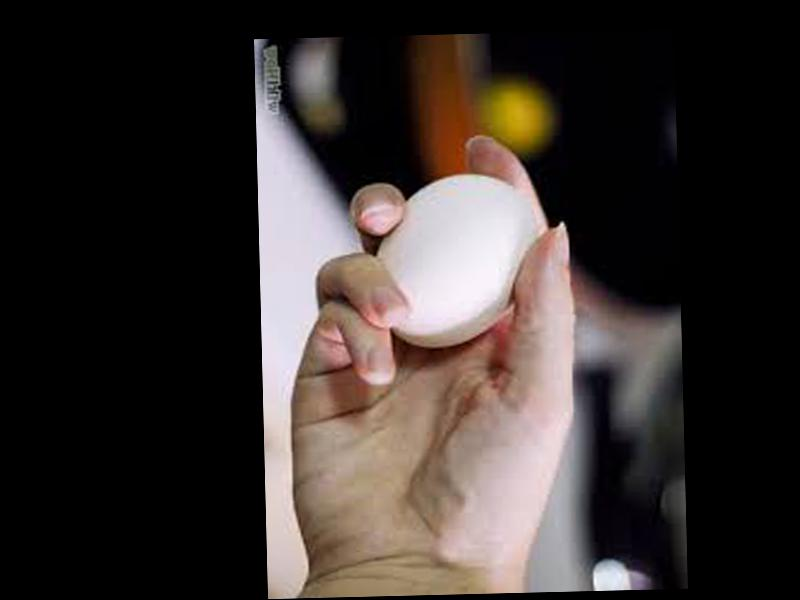Eggs: (376, 170, 539, 347)
